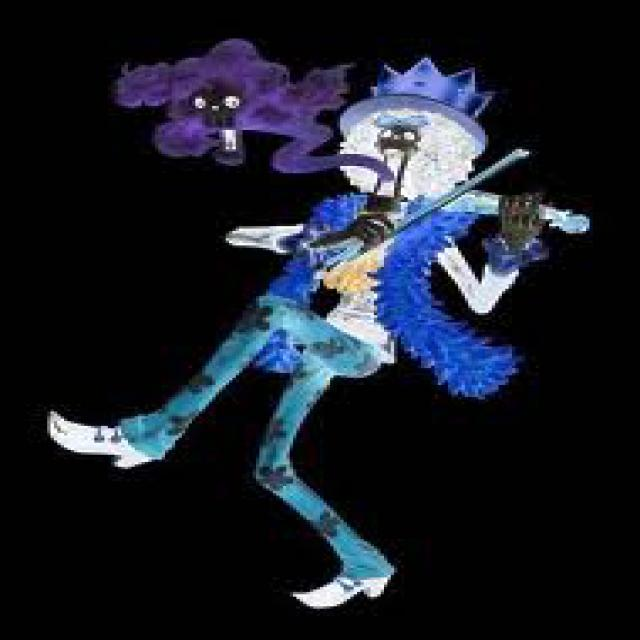Brook: (47, 58, 593, 611)
